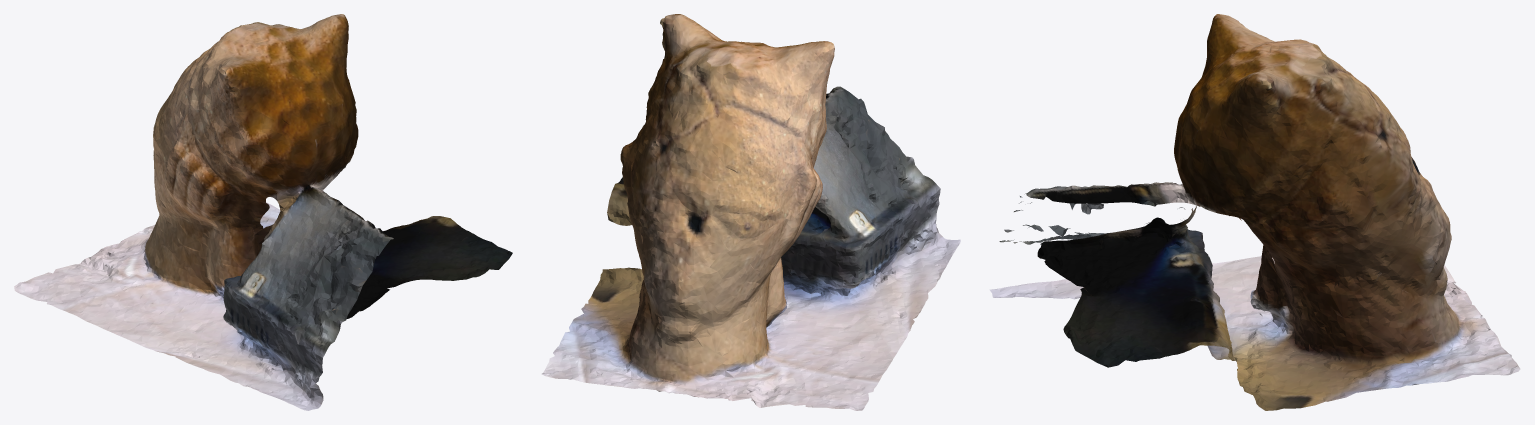
The picture shows the model from 3 angles, left to right: view 1: azimuth 30°, elevation 25°; view 2: azimuth 150°, elevation 25°; view 3: azimuth 270°, elevation 25°; orthographic projection. The views are drawn at different scales.
Size of the model in its own units: 0.2474 by 0.1805 by 0.2879.
Materials: 1 (1 with a texture image).
